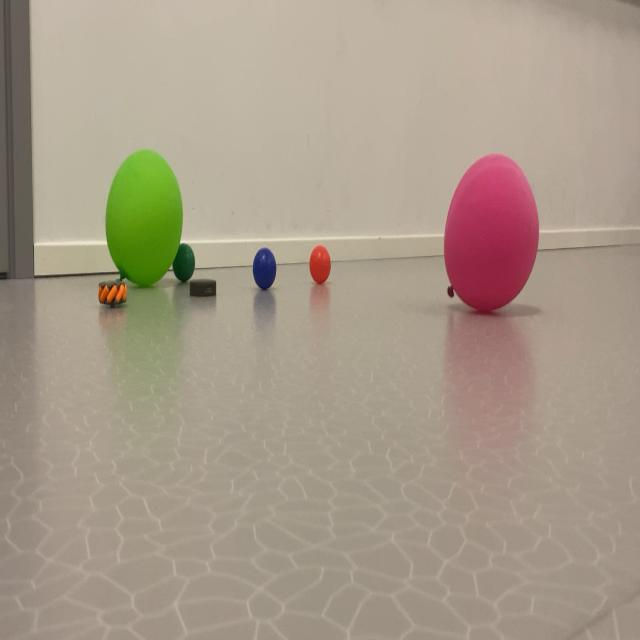6: (252, 216, 354, 346)
7: (302, 192, 341, 294)
green ball: (244, 199, 278, 303)
red ball: (173, 237, 201, 284)
